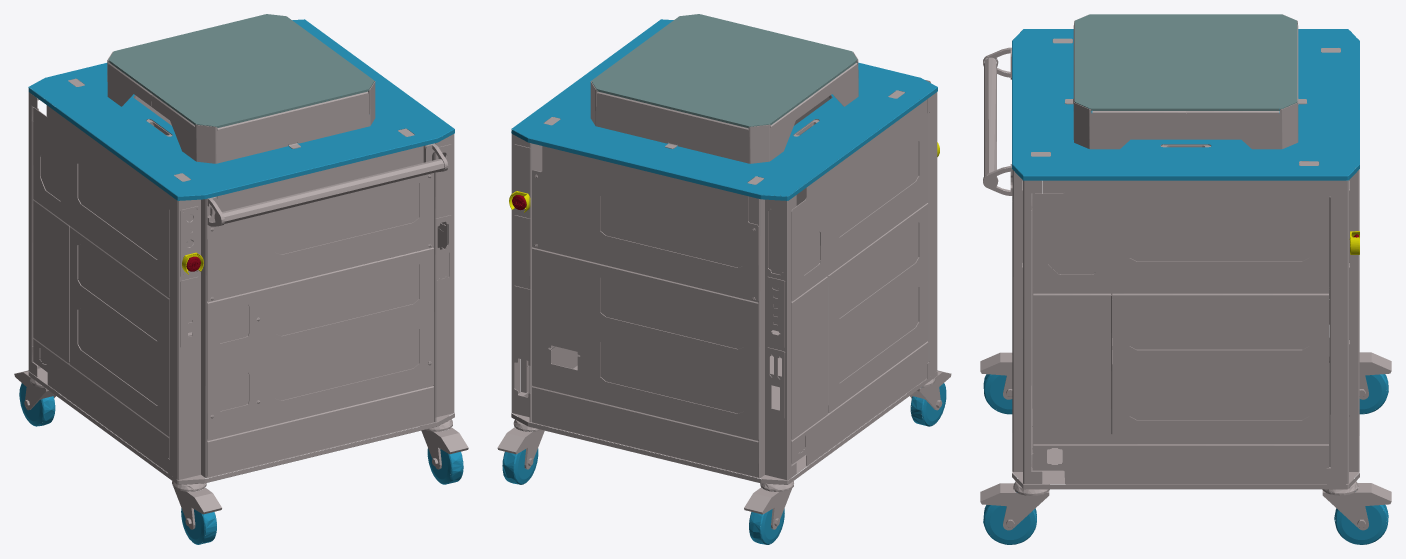
Rendered from sts.glb.
3 views of the same model, side by side, from view 1: azimuth 30°, elevation 25°; view 2: azimuth 150°, elevation 25°; view 3: azimuth 270°, elevation 25° (orthographic). The views are drawn at different scales.
Size of the model in its own units: 0.7922 by 1.05 by 0.9364.
